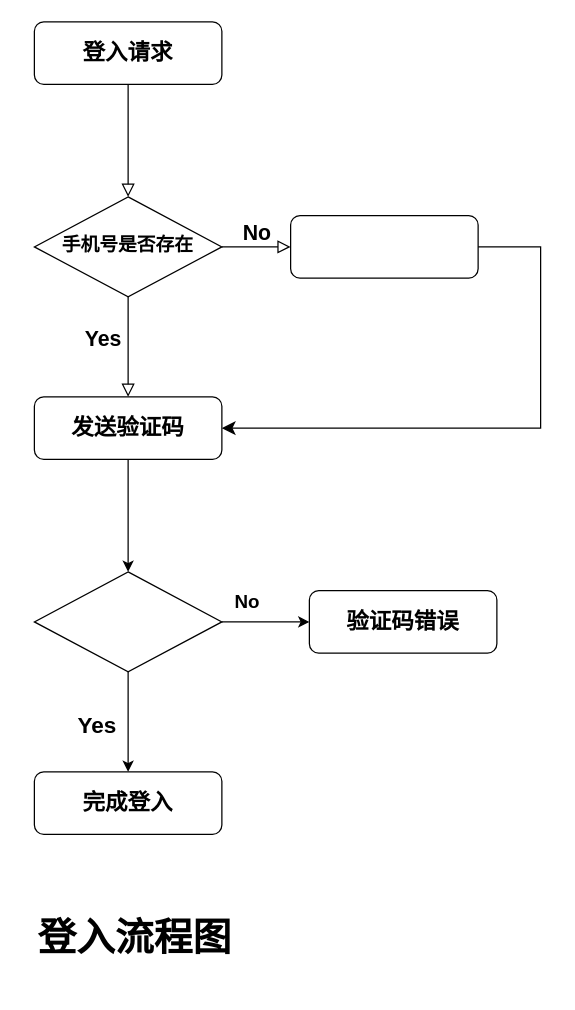
This 575x1010 diagram has some shape labels left out. Here are the shapes that lost their labels. From the top down, the centre of each, then its label:
At pixel 383 246: "自动注册".
At pixel 127 621: "验证验证码".
